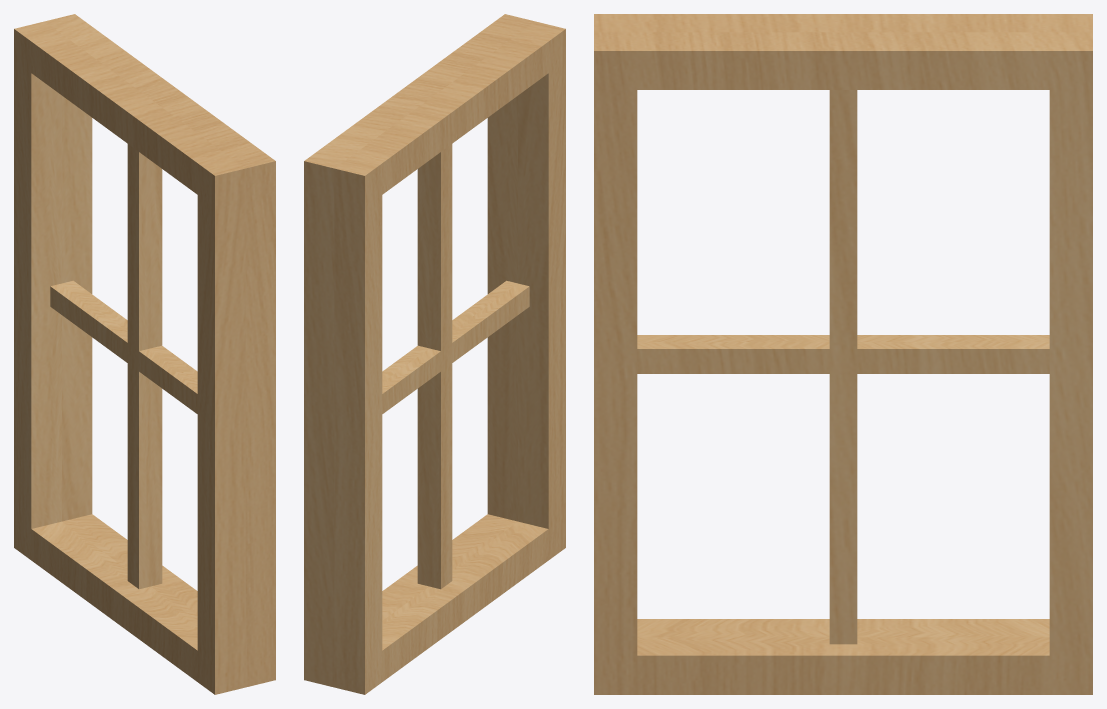
File: KarePencere.fbx
The picture shows the model from 3 angles, left to right: view 1: azimuth 30°, elevation 25°; view 2: azimuth 150°, elevation 25°; view 3: azimuth 270°, elevation 25°; orthographic projection. The views are drawn at different scales.
Visible parts, largest first — view 1: Cube.002; view 2: Cube.002; view 3: Cube.002.
Part boxes in pixels (bbox=[...]): Cube.002: bbox=[14, 14, 275, 694]; Cube.002: bbox=[304, 14, 565, 694]; Cube.002: bbox=[594, 14, 1092, 694].
Bounding box in the file's own units: 20.19 × 164 × 115.
Materials: 1 (1 with a texture image).
